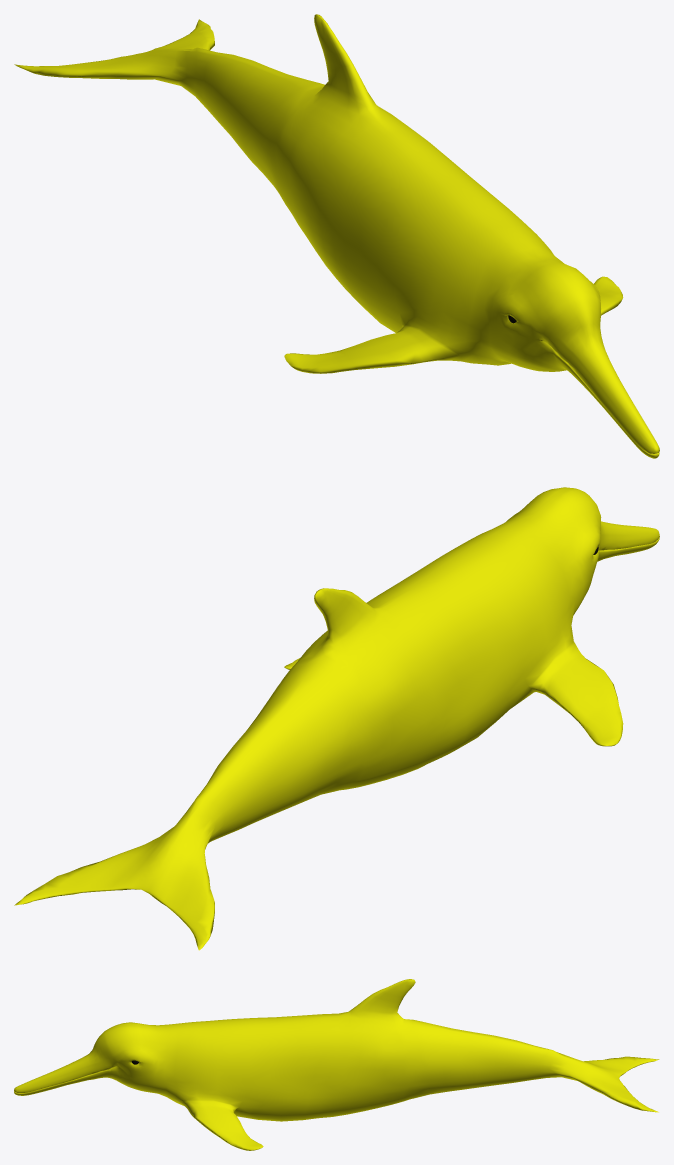
Rendered from Mod_BotoRosa_v1.fbx.
3 views of the same model, one above another, from view 1: azimuth 30°, elevation 25°; view 2: azimuth 150°, elevation 25°; view 3: azimuth 270°, elevation 25° (orthographic). The views are drawn at different scales.
Visible parts, largest first — view 1: Boto; view 2: Boto; view 3: Boto.
Boxes of the visible parts, x1,y1,x2,y2 form: Boto: (14,14,659,458); Boto: (14,487,659,950); Boto: (14,979,659,1150).
Bounding box in the file's own units: 0.8703 × 0.5867 × 2.54.
